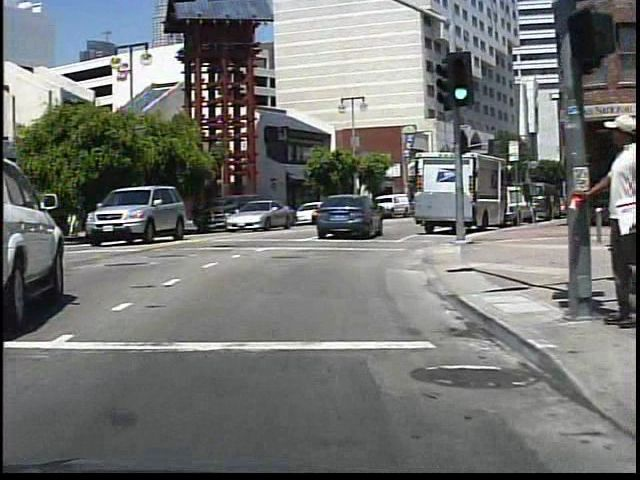person: (574, 104, 639, 329)
